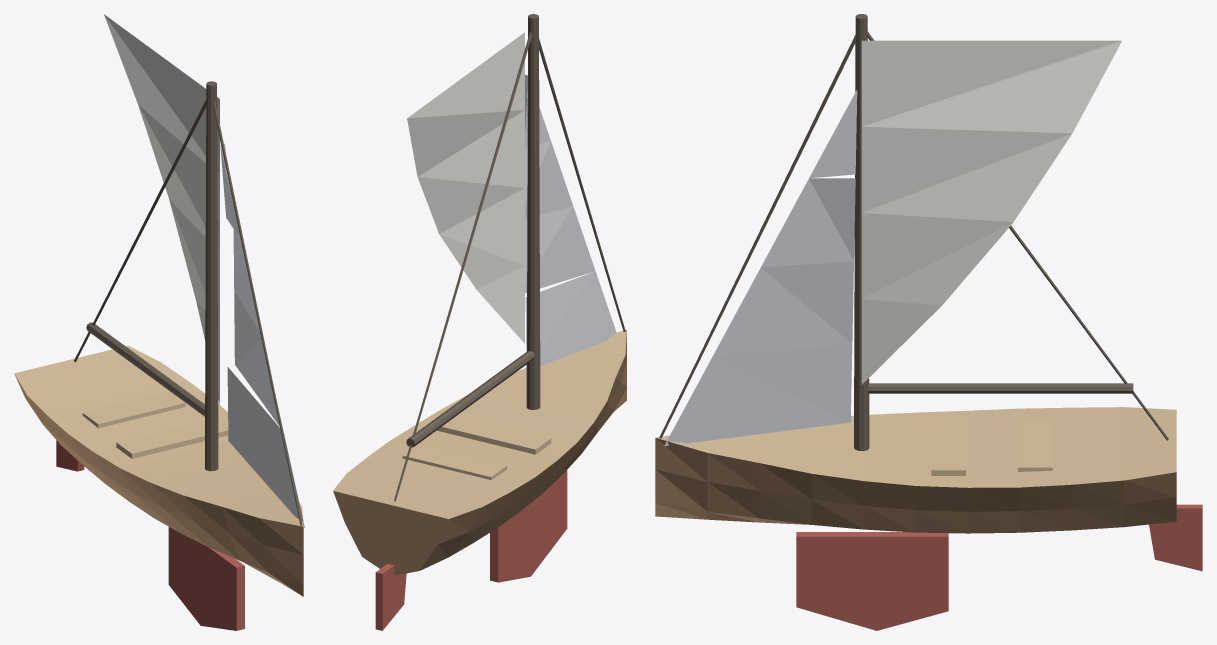
File: boat.glb
The picture shows the model from 3 angles, left to right: view 1: azimuth 30°, elevation 25°; view 2: azimuth 150°, elevation 25°; view 3: azimuth 270°, elevation 25°; orthographic projection. The views are drawn at different scales.
Parts seen in each view (by area): view 1: Deck, MainSail, Hull, Jib, Rigging, KeelAndRudder; view 2: Deck, MainSail, Jib, Hull, Rigging, KeelAndRudder; view 3: MainSail, Jib, Deck, Hull, KeelAndRudder, Rigging.
Part boxes in pixels (box(x1,y1,x2,y2)): Deck: box(14, 345, 303, 526); MainSail: box(104, 14, 219, 404); Hull: box(14, 374, 303, 596); Jib: box(220, 143, 304, 527); Rigging: box(74, 81, 302, 525); KeelAndRudder: box(56, 440, 244, 630); Deck: box(333, 329, 626, 518); MainSail: box(407, 32, 524, 343); Jib: box(525, 74, 616, 371); Hull: box(333, 331, 626, 575); Rigging: box(394, 14, 625, 501); KeelAndRudder: box(375, 470, 567, 630); MainSail: box(861, 40, 1121, 384); Jib: box(664, 89, 857, 446); Deck: box(656, 407, 1176, 487); Hull: box(655, 438, 1176, 533); KeelAndRudder: box(796, 504, 1202, 630); Rigging: box(659, 14, 1168, 451).
Size of the model in its own units: 0.86 by 3.11 by 2.52.
